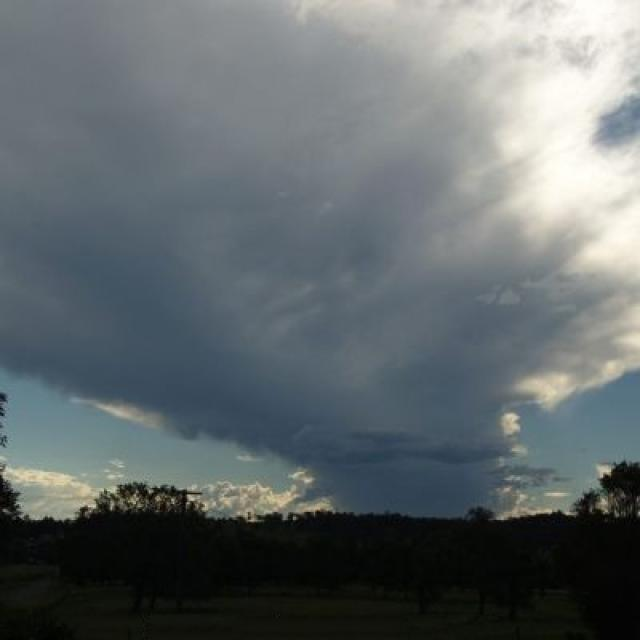Cb: (1, 15, 640, 445)
